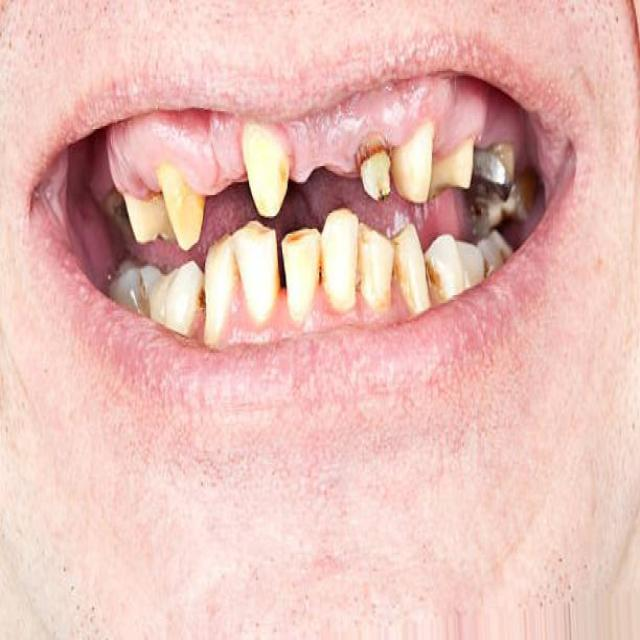caries: (354, 127, 396, 204)
